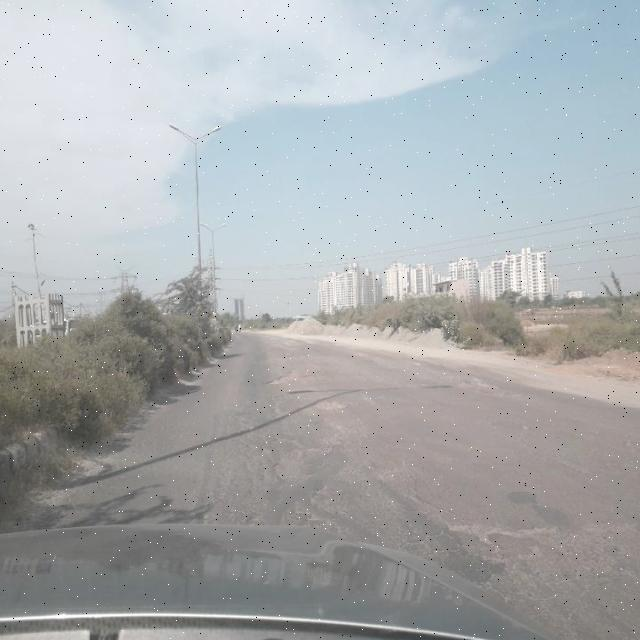D40: (473, 530, 640, 616), (208, 397, 273, 519), (448, 512, 559, 545), (423, 362, 505, 404), (274, 434, 340, 481), (379, 452, 430, 498), (262, 366, 312, 390), (312, 394, 352, 418)
